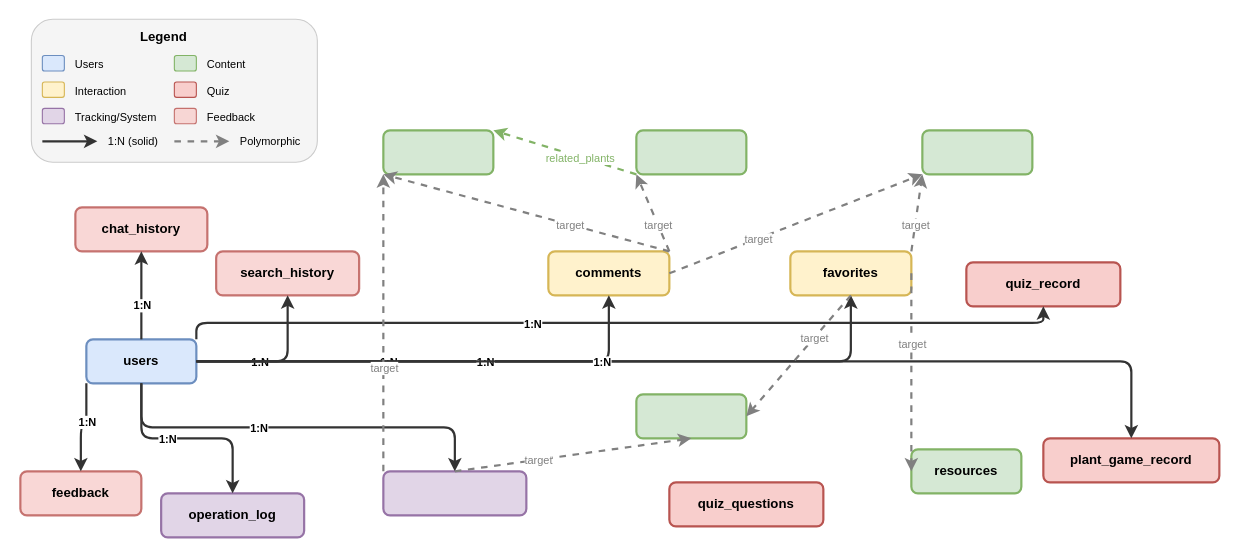
This 1239x558 diagram has some shape labels left out. The shapes that lost their labels are listed below. From the top down, each one's centre as x and y in pixels, then its label:
At point 438,152: "plants".
At point 691,152: "knowledge".
At point 977,152: "inheritors".
At point 691,416: "qa".
At point 454,493: "browse_history".
